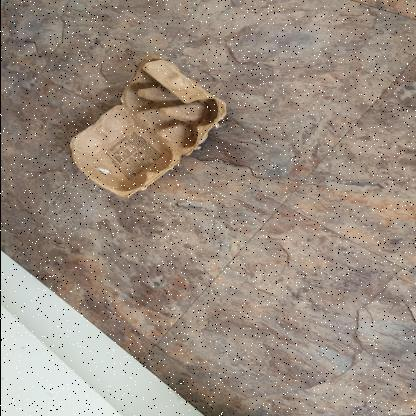cardboard: (68, 52, 226, 198)
